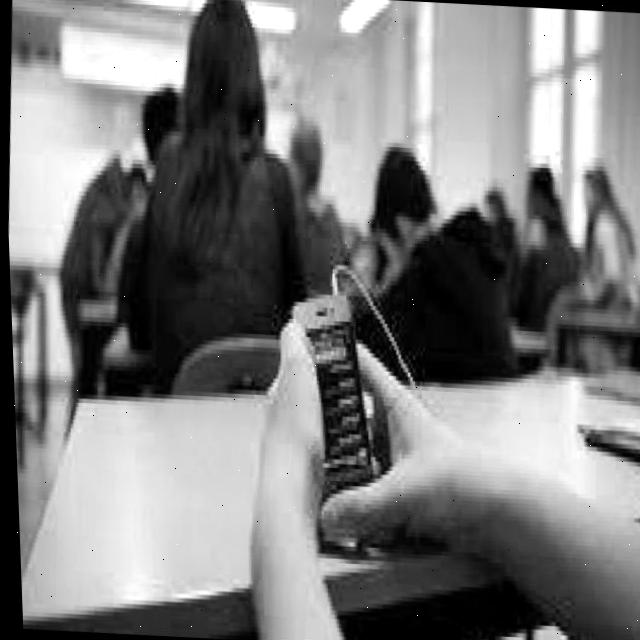phone: (276, 288, 386, 552)
